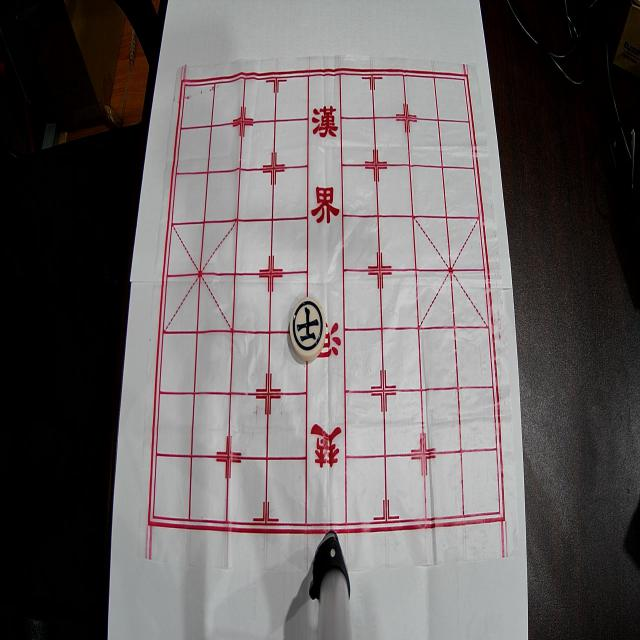black-guard: (290, 297, 326, 361)
